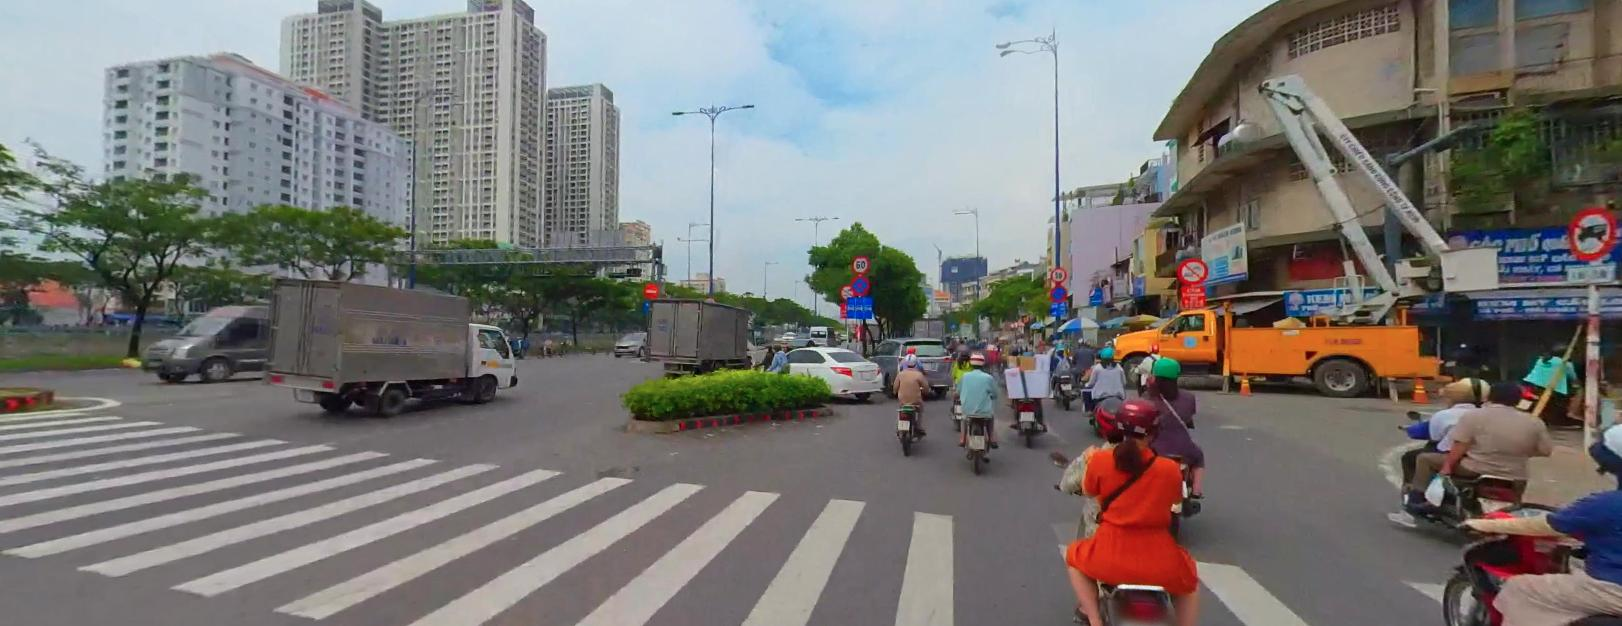Cam con lai: (1566, 208, 1614, 257), (1178, 256, 1207, 284), (839, 284, 854, 298)
Cam dung va do: (850, 275, 868, 295), (1050, 284, 1067, 299)
Cam nguoc chieu: (644, 284, 658, 298)
Gioi han toc do: (851, 254, 869, 272), (1050, 266, 1067, 281)
